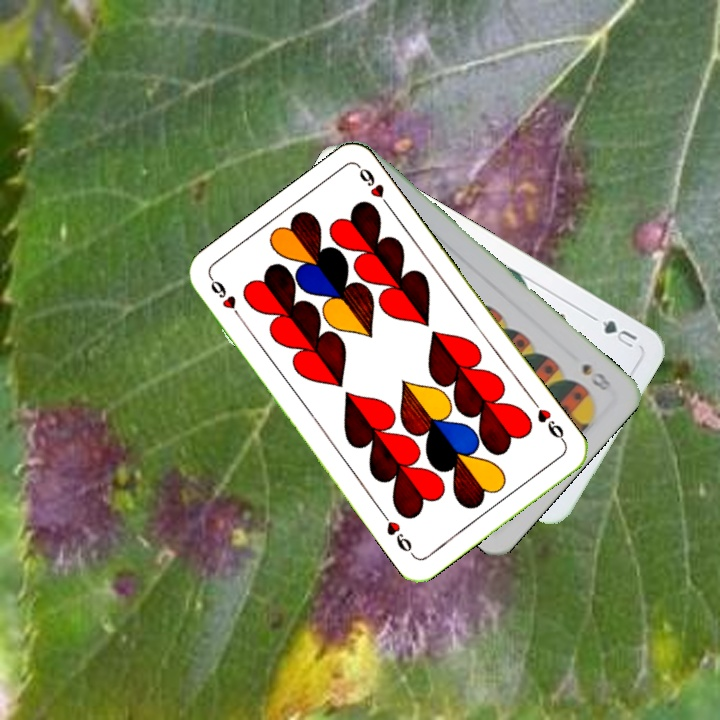GU: (588, 312, 640, 351)
H9: (528, 396, 569, 447), (206, 274, 246, 325)
S8: (577, 359, 615, 394)
